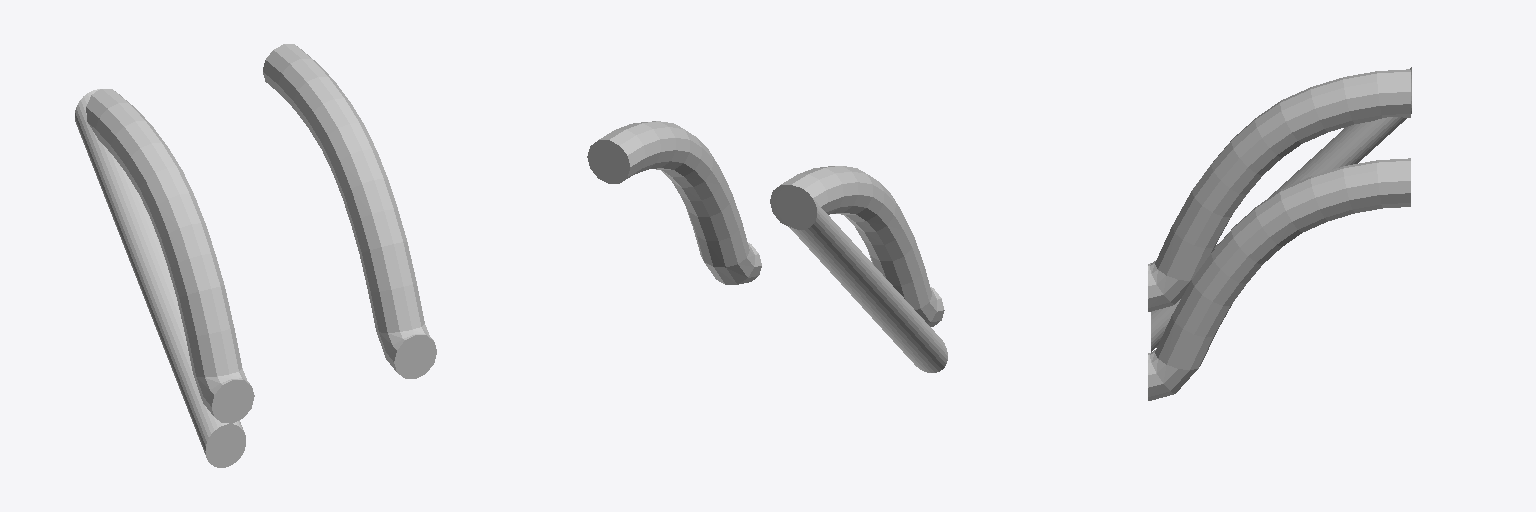
The model's file is drop rail template.obj.
3 views of the same model, side by side, from view 1: azimuth 30°, elevation 25°; view 2: azimuth 150°, elevation 25°; view 3: azimuth 270°, elevation 25° (orthographic).
Visible parts, largest first — view 1: Torus.000_Torus.002, Cylinder.001_Cylinder.005; view 2: Torus.000_Torus.002, Cylinder.001_Cylinder.005; view 3: Torus.000_Torus.002, Cylinder.001_Cylinder.005.
Boxes of the visible parts, <box> form: Torus.000_Torus.002: <box>86,44,436,423</box>; Cylinder.001_Cylinder.005: <box>75,89,245,467</box>; Torus.000_Torus.002: <box>587,121,944,326</box>; Cylinder.001_Cylinder.005: <box>776,186,947,372</box>; Torus.000_Torus.002: <box>1148,69,1410,400</box>; Cylinder.001_Cylinder.005: <box>1151,67,1411,351</box>.
Bounding box in the file's own units: 1.01 × 1.18 × 1.